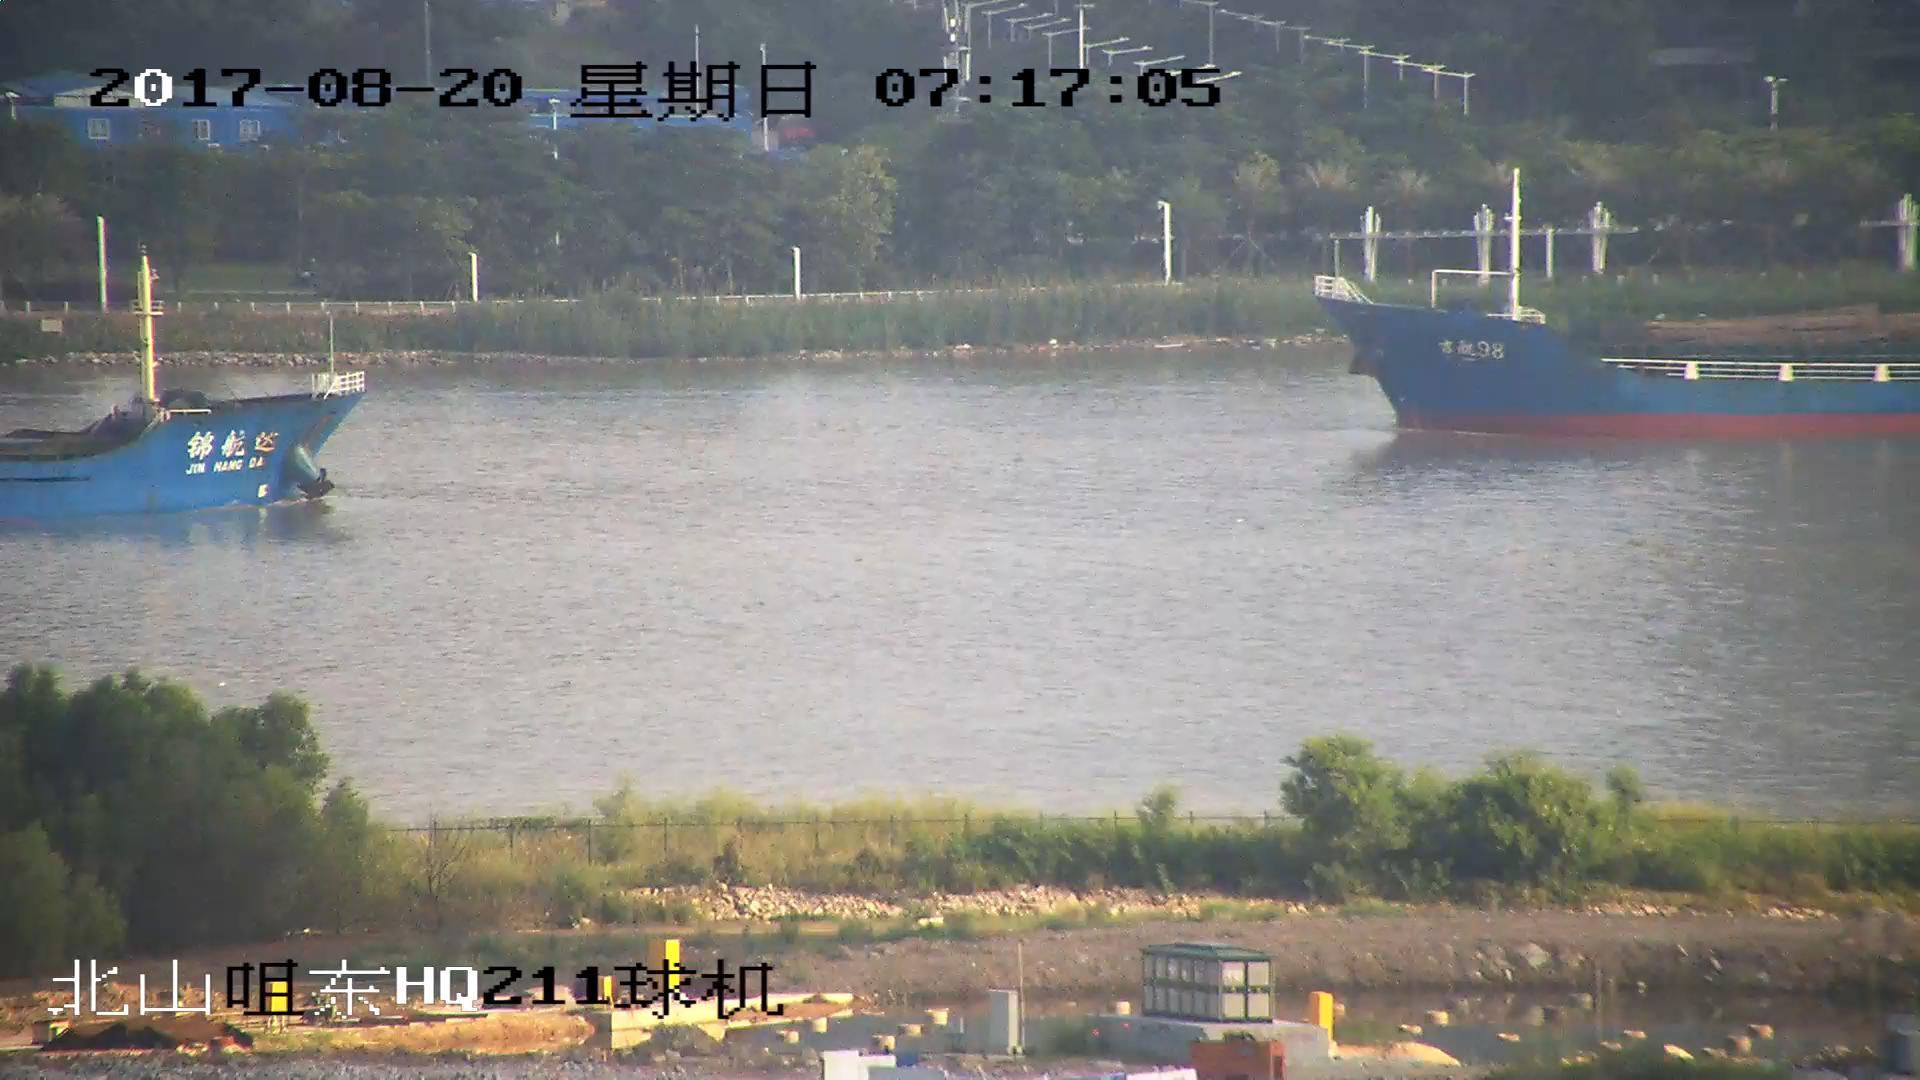Ship: (1320, 179, 1920, 447), (3, 272, 378, 529)
